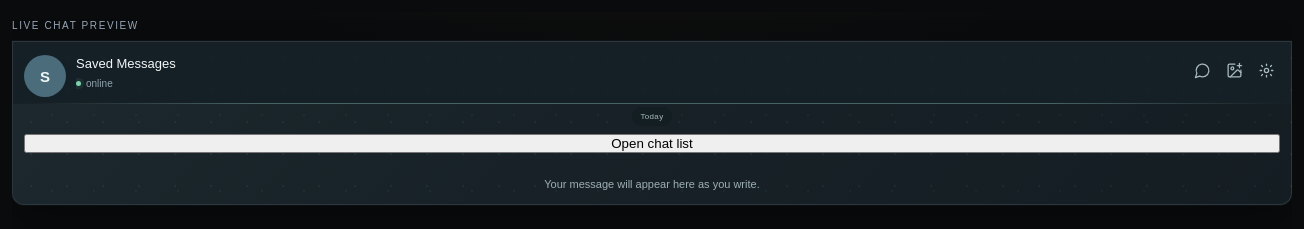
ChatPreviewStand DOM behavior › switches between web and mobile preview modes
This screenshot has width=1304, height=229.
Expected: the button "Switch to Web preview" is not shown
Expected: the button "Switch to Mobile preview" is not shown
Click the button named "Preview settings".
click(1266, 73)  # box [1252, 59, 1280, 87]
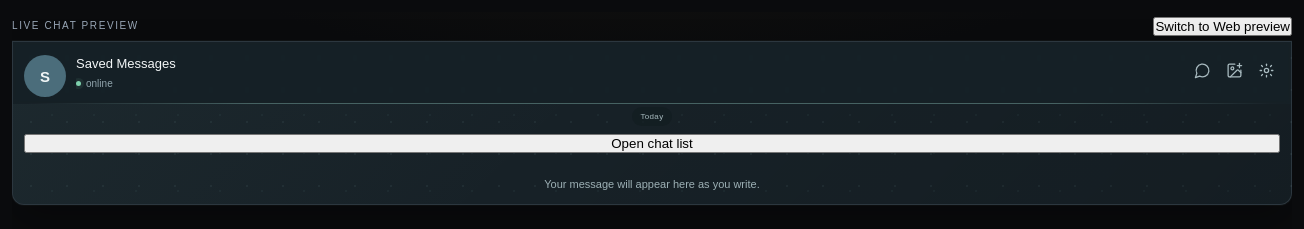
Click the button "Switch to Web preview".
click(1223, 26)  # box [1153, 16, 1292, 36]
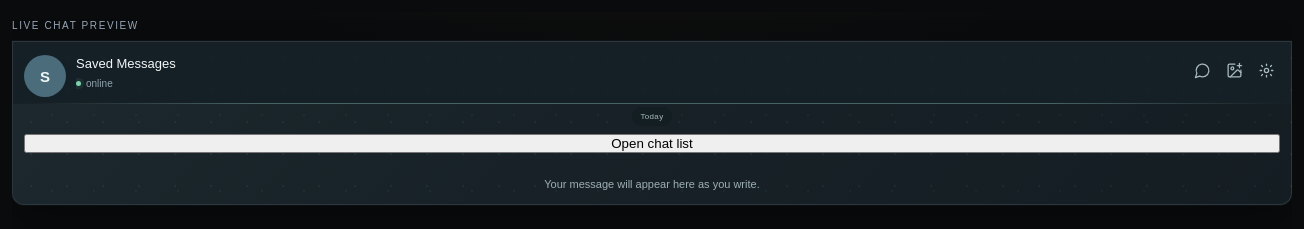
Expected: the button "Switch to Web preview" is gone
Click the button named "Preview settings".
click(1266, 73)  # box [1252, 59, 1280, 87]
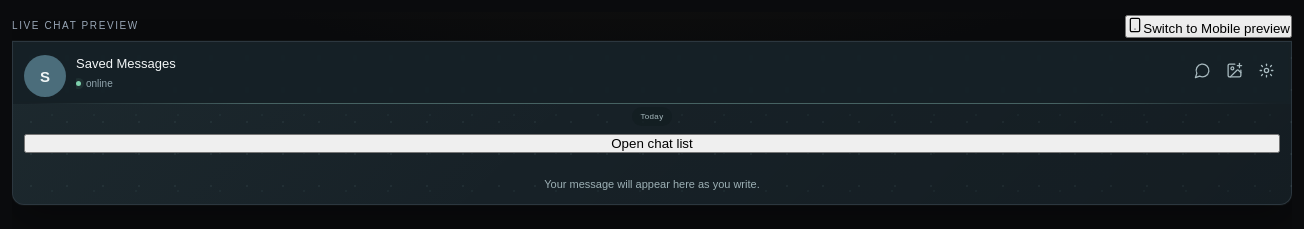
Click the button "Switch to Mobile preview".
click(1209, 26)  # box [1125, 14, 1292, 38]
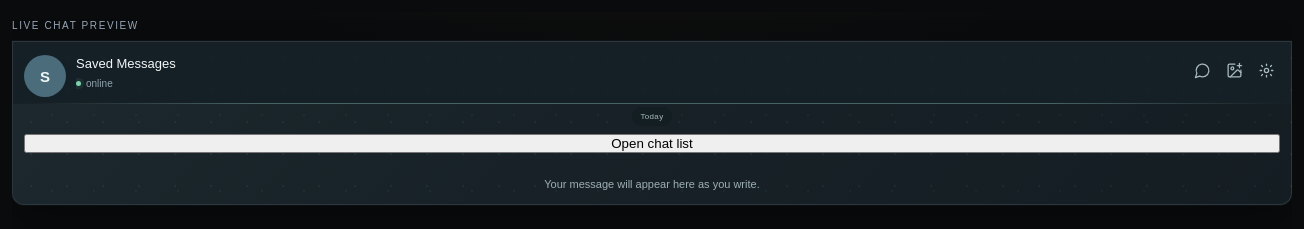
Expected: the button "Switch to Mobile preview" is gone
